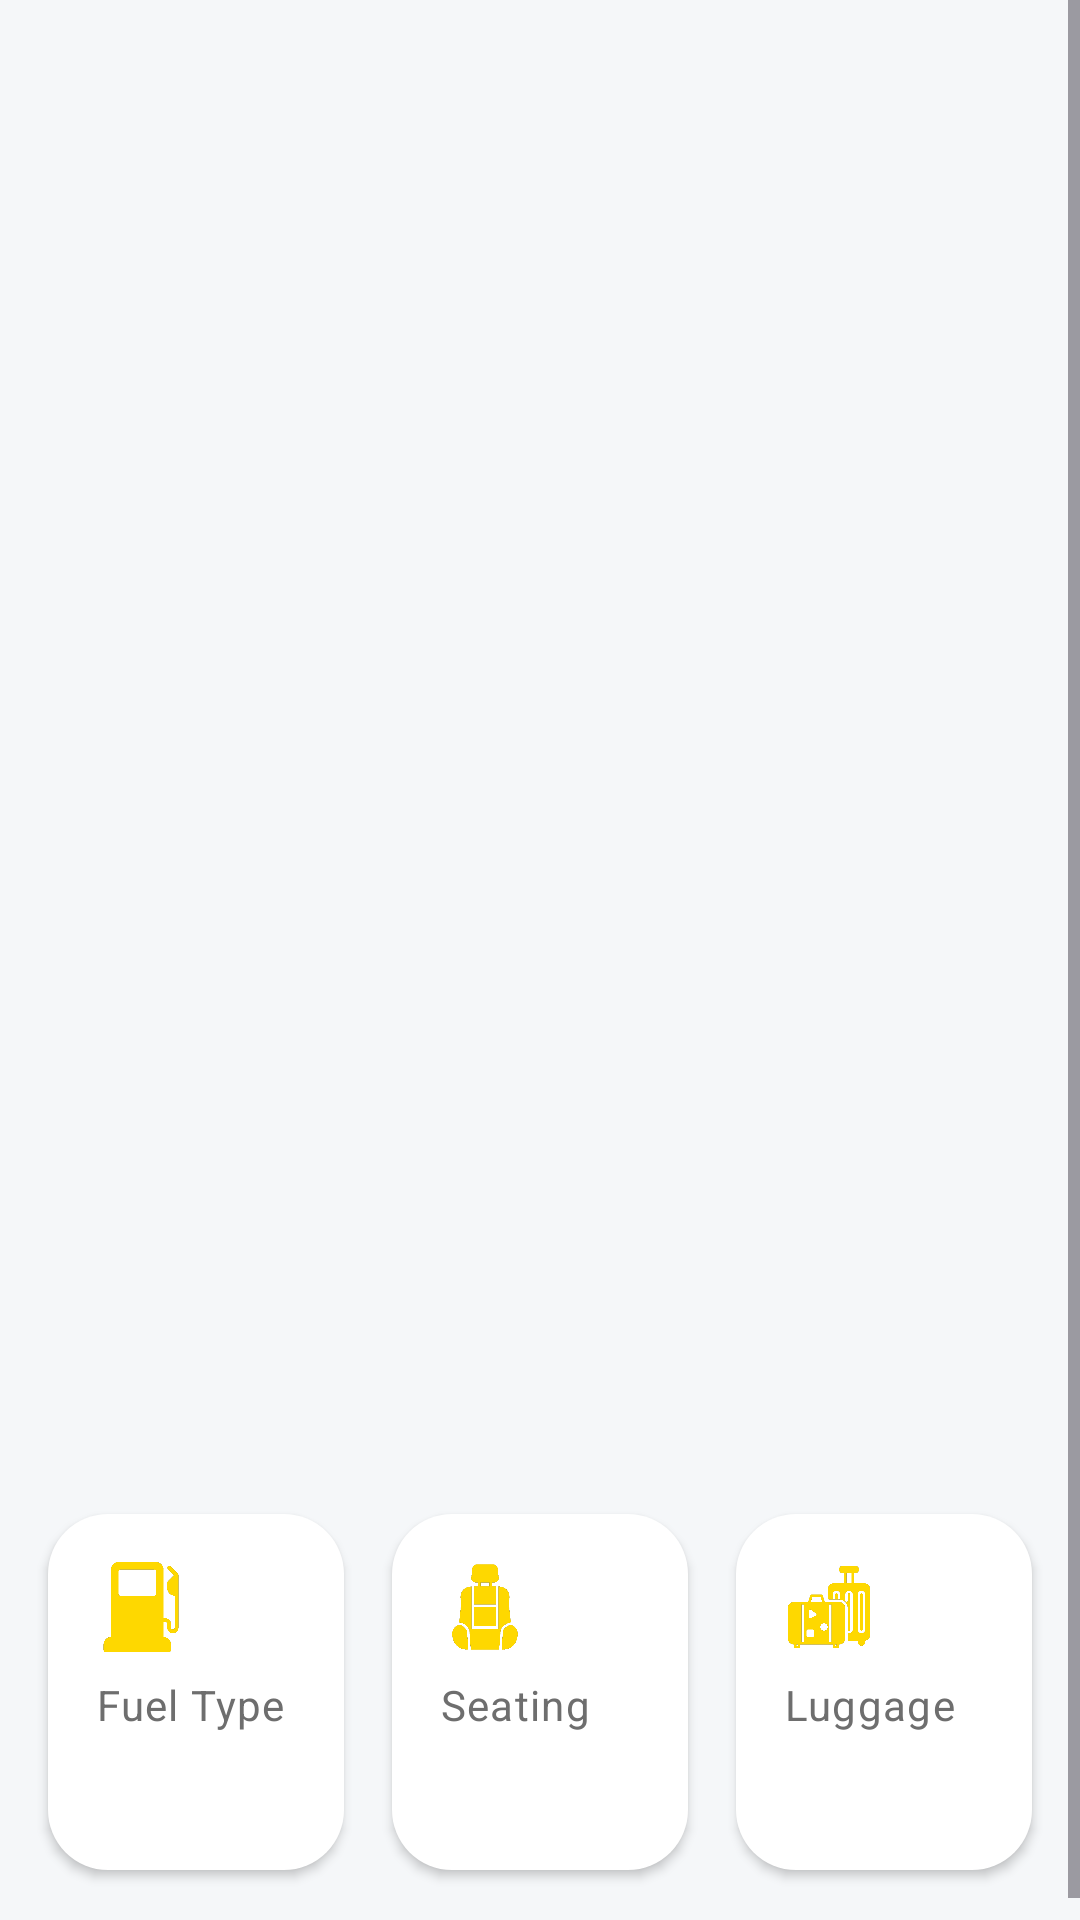

Named icons in this screenshot (1080w x 1920h) and their bounding boxes, rect(x1, y1, x2, y2):
vehicle seat capacity: rect(452, 1564, 518, 1650)
